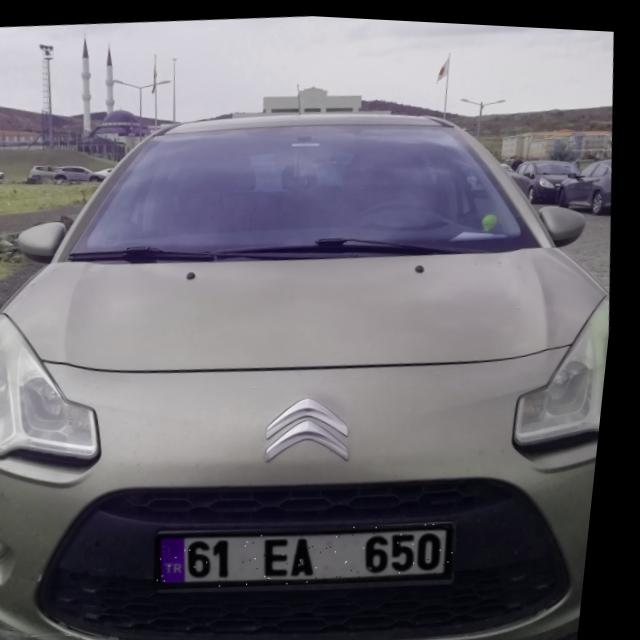license_plate: (161, 505, 470, 599)
